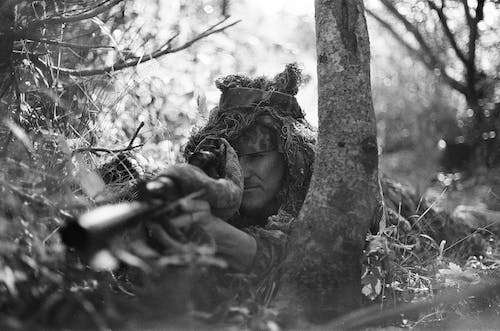gun: (56, 136, 228, 255)
